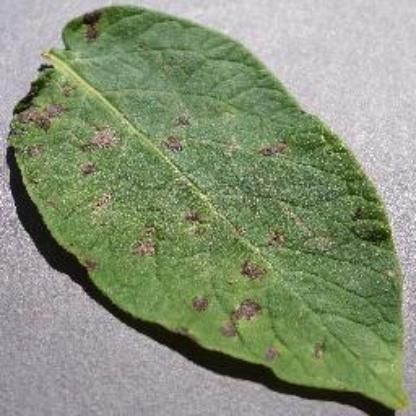Early-Blight: (5, 0, 414, 416)
